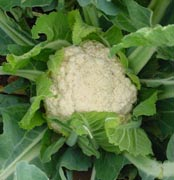cauliflower: (36, 38, 140, 152)
